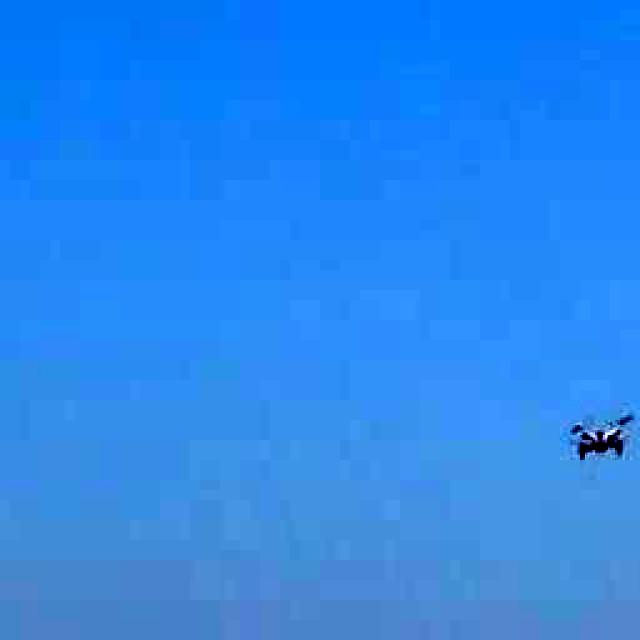bird: (546, 384, 640, 481)
